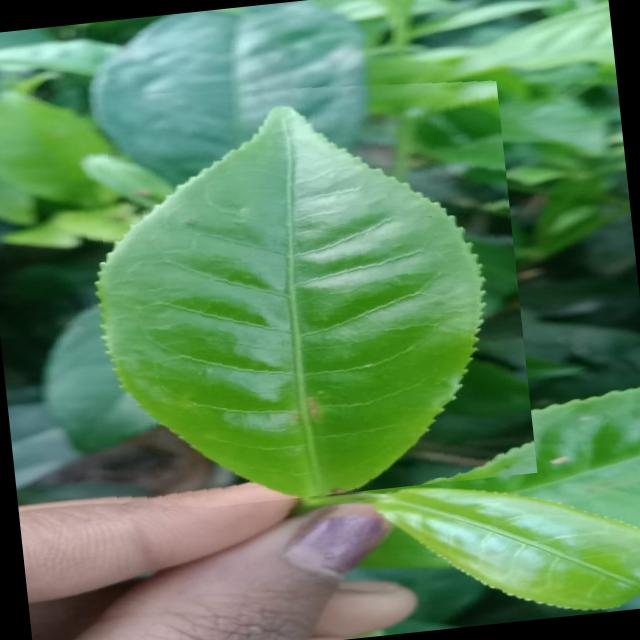Category B(2-4 days): (63, 51, 537, 518)
